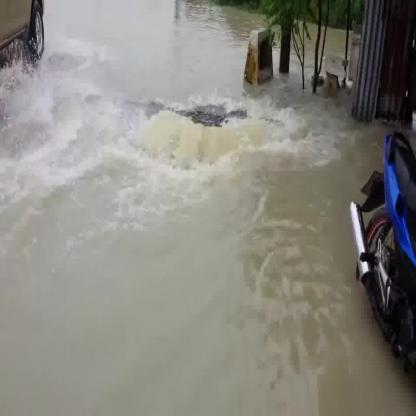drainage overflow-repair-: (141, 65, 252, 196)
